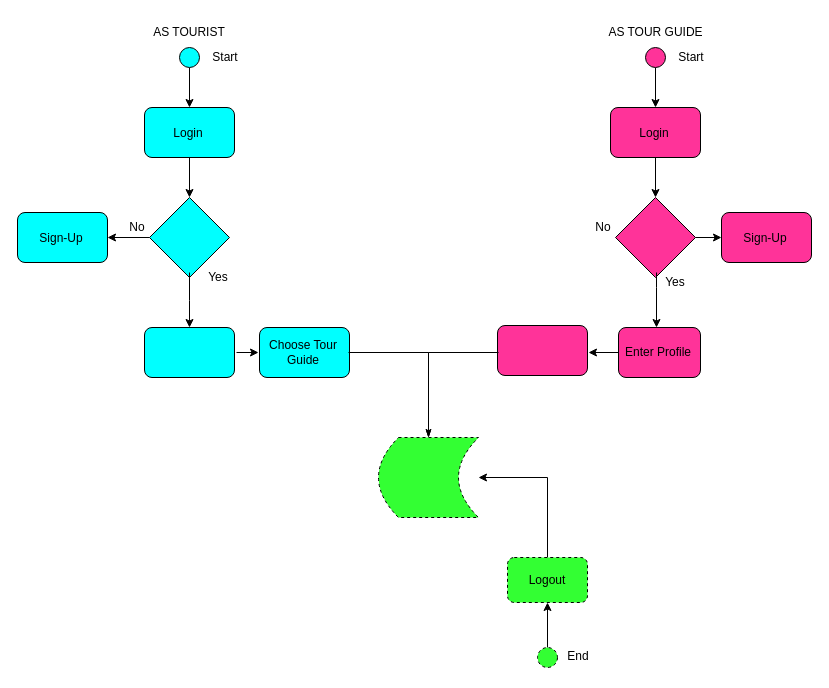
Some shapes in this 829 by 688 pixel diagram are drawn without their labels. The shapes that lost their labels are listed below. From the top down, each one's centre as x and y in pixels, then its label:
At (189,352): "Enter Location".
At (542,350): "Add Tour Guide".
At (428,477): "List of Tour Guides".
